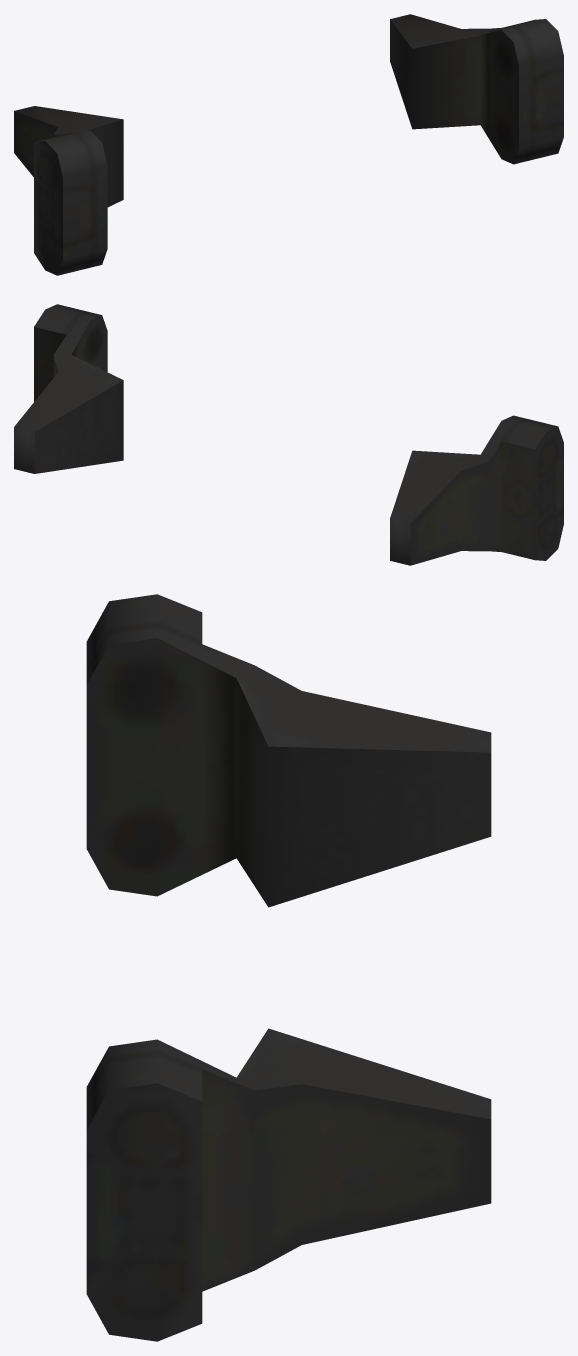
The picture shows the model from 3 angles, top to bottom: view 1: azimuth 30°, elevation 25°; view 2: azimuth 150°, elevation 25°; view 3: azimuth 270°, elevation 25°; orthographic projection. The views are drawn at different scales.
Visible parts, largest first — view 1: set_0_group_0; view 2: set_0_group_0; view 3: set_0_group_0.
Boxes of the visible parts, <box> form: set_0_group_0: <box>14,14,563,275</box>; set_0_group_0: <box>14,304,563,565</box>; set_0_group_0: <box>86,594,491,1341</box>.
Size of the model in its own units: 0.4315 by 0.1064 by 0.151.
1 material, 1 textured.
